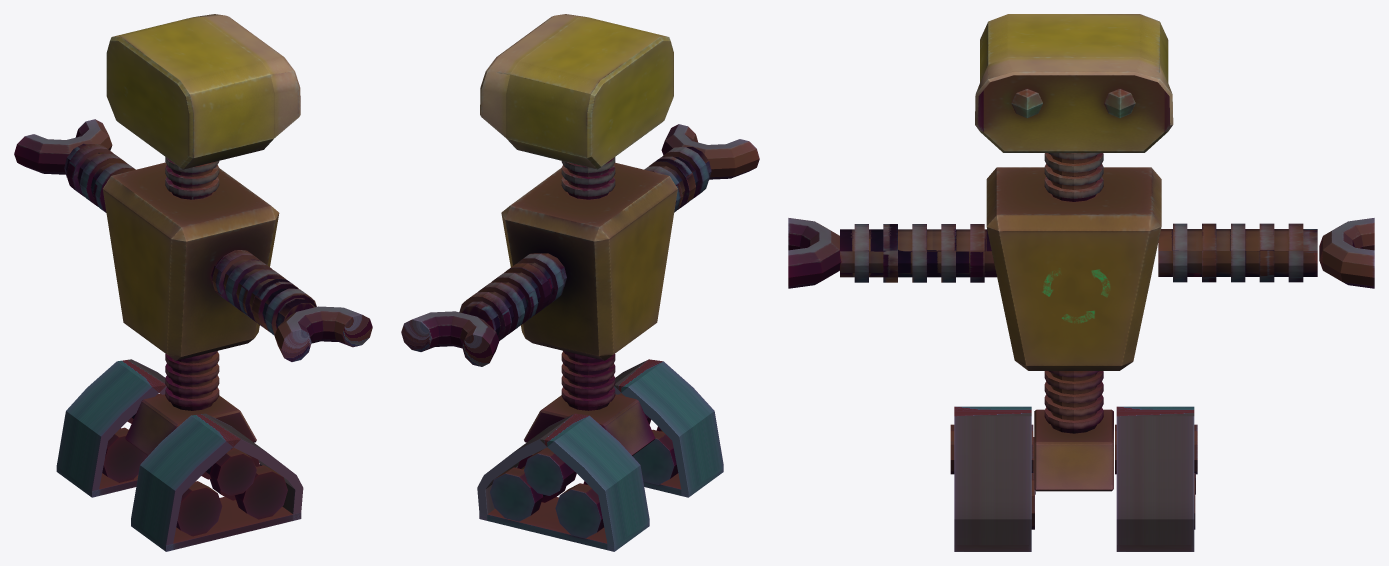
Rendered from RobotTexturedandFixed.fbx.
The picture shows the model from 3 angles, left to right: view 1: azimuth 30°, elevation 25°; view 2: azimuth 150°, elevation 25°; view 3: azimuth 270°, elevation 25°; orthographic projection. The views are drawn at different scales.
Parts seen in each view (by area): view 1: JumperRobot:pCube1Robot, JumperRobot:RobotpCube4, pCube2, pCube1, JumperRobot:RobotBendTube, JumperRobot:RobotpTorus1, JumperRobot:RobotpCube2, JumperRobot:RobotBendTube2, JumperRobot:RobotpTorus2, JumperRobot:RobotBendTube1, pCylinder7, pCylinder5 (+3 smaller); view 2: JumperRobot:pCube1Robot, JumperRobot:RobotpCube4, pCube1, pCube2, JumperRobot:RobotBendTube1, JumperRobot:RobotpTorus2, JumperRobot:RobotpCube2, JumperRobot:RobotBendTube2, JumperRobot:RobotpTorus1, JumperRobot:RobotBendTube, pCylinder2, pCylinder3 (+3 smaller); view 3: JumperRobot:pCube1Robot, JumperRobot:RobotpCube4, pCube1, pCube2, JumperRobot:RobotBendTube1, JumperRobot:RobotBendTube, JumperRobot:RobotpCube2, JumperRobot:RobotBendTube2, JumperRobot:RobotpTorus2, JumperRobot:RobotpTorus1, JumperRobot:RobotBendTube3.
Part boxes in pixels (left/top/right/bottom): JumperRobot:pCube1Robot: left=103, top=162, right=279, bottom=360; JumperRobot:RobotpCube4: left=106, top=14, right=300, bottom=169; pCube2: left=131, top=413, right=303, bottom=551; pCube1: left=56, top=359, right=166, bottom=497; JumperRobot:RobotBendTube: left=211, top=250, right=316, bottom=335; JumperRobot:RobotpTorus1: left=274, top=306, right=372, bottom=361; JumperRobot:RobotpCube2: left=125, top=394, right=256, bottom=455; JumperRobot:RobotBendTube2: left=165, top=351, right=219, bottom=410; JumperRobot:RobotpTorus2: left=14, top=119, right=112, bottom=174; JumperRobot:RobotBendTube1: left=64, top=143, right=135, bottom=212; pCylinder7: left=210, top=447, right=287, bottom=519; pCylinder5: left=176, top=481, right=222, bottom=536; JumperRobot:pCube1Robot: left=501, top=162, right=677, bottom=360; JumperRobot:RobotpCube4: left=480, top=14, right=673, bottom=169; pCube1: left=477, top=413, right=649, bottom=551; pCube2: left=614, top=359, right=723, bottom=497; JumperRobot:RobotBendTube1: left=459, top=253, right=566, bottom=340; JumperRobot:RobotpTorus2: left=401, top=311, right=499, bottom=366; JumperRobot:RobotpCube2: left=524, top=394, right=655, bottom=455; JumperRobot:RobotBendTube2: left=561, top=351, right=615, bottom=410; JumperRobot:RobotpTorus1: left=661, top=124, right=759, bottom=179; JumperRobot:RobotBendTube: left=644, top=147, right=711, bottom=212; pCylinder2: left=490, top=454, right=566, bottom=521; pCylinder3: left=555, top=481, right=603, bottom=538; JumperRobot:pCube1Robot: left=986, top=167, right=1161, bottom=370; JumperRobot:RobotpCube4: left=975, top=14, right=1173, bottom=152; pCube1: left=1116, top=406, right=1194, bottom=551; pCube2: left=954, top=406, right=1031, bottom=551; JumperRobot:RobotBendTube1: left=1158, top=223, right=1317, bottom=282; JumperRobot:RobotBendTube: left=840, top=224, right=996, bottom=282; JumperRobot:RobotpCube2: left=1034, top=409, right=1113, bottom=491; JumperRobot:RobotBendTube2: left=1044, top=371, right=1103, bottom=433; JumperRobot:RobotpTorus2: left=1319, top=218, right=1374, bottom=288; JumperRobot:RobotpTorus1: left=788, top=218, right=841, bottom=288; JumperRobot:RobotBendTube3: left=1044, top=153, right=1103, bottom=201.
Bounding box in the file's own units: 2.31 × 6.73 × 7.34.
